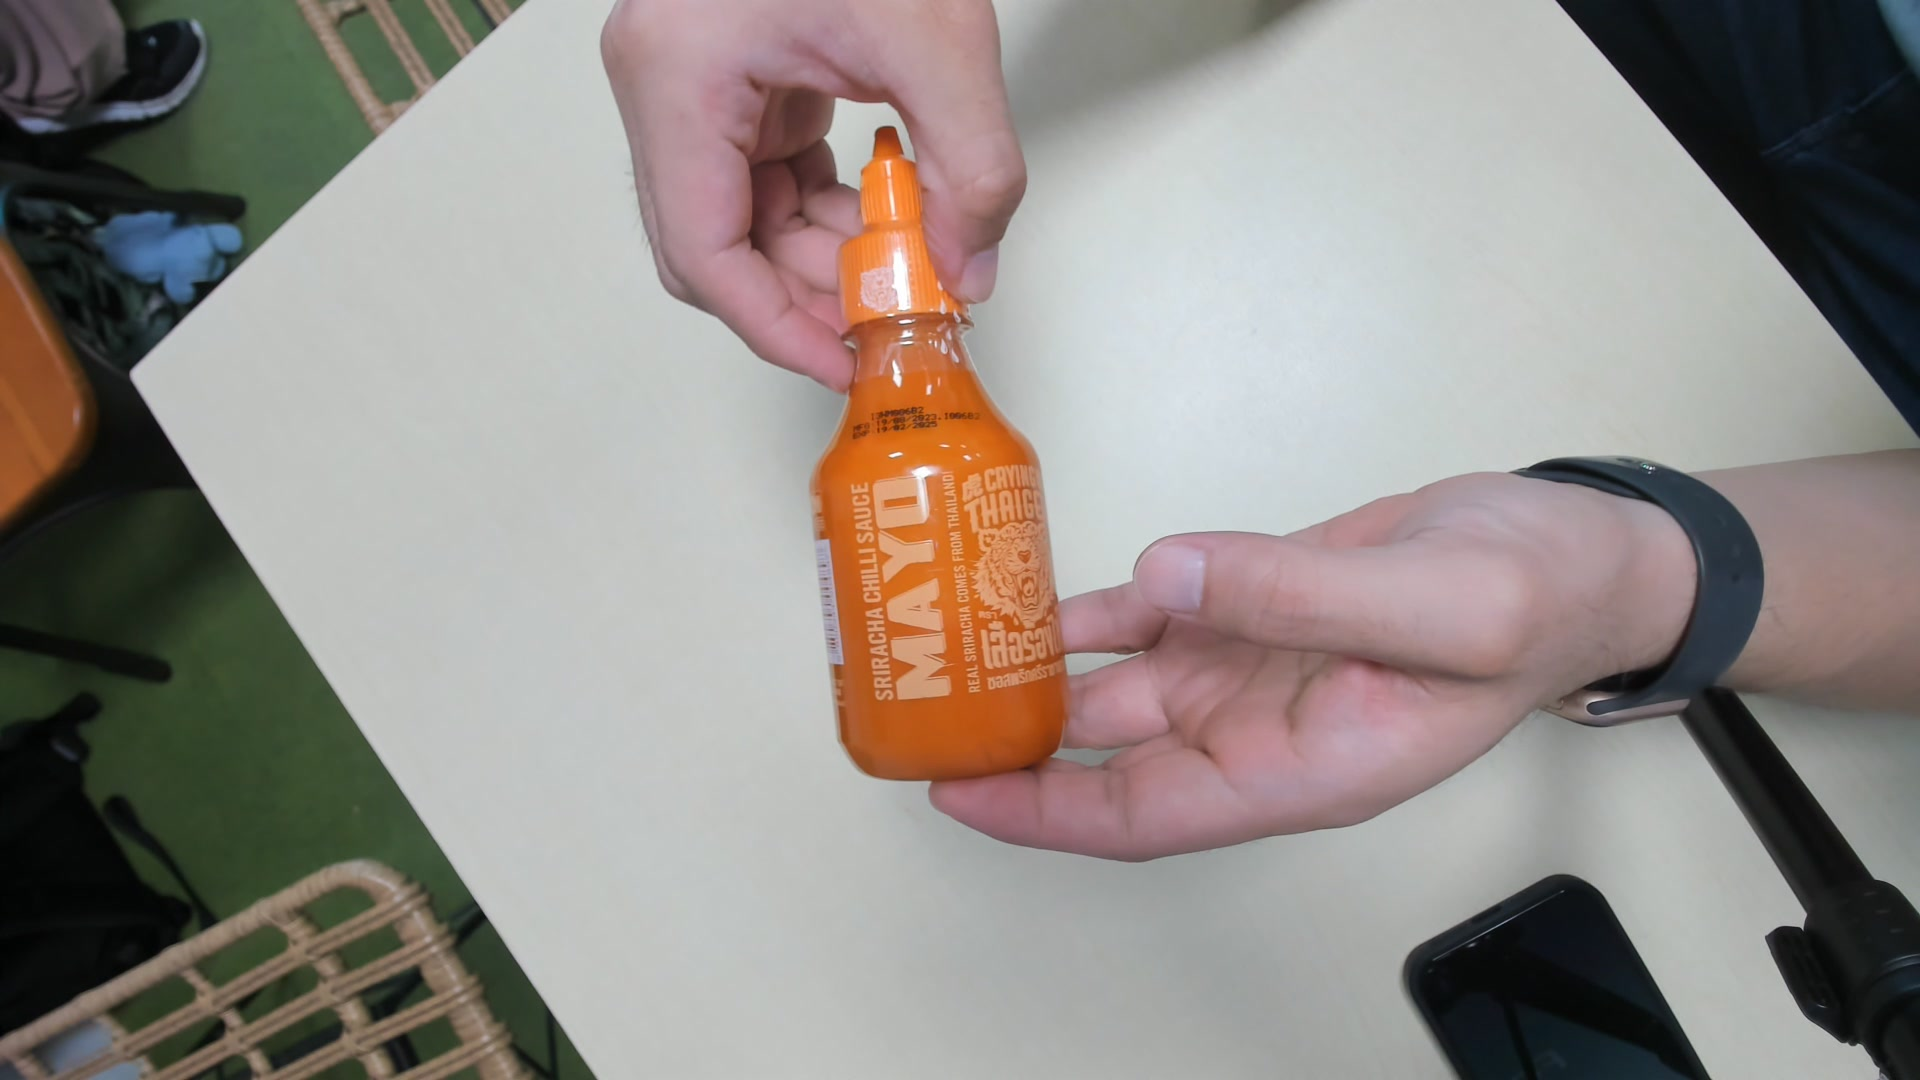OtherSauceDressing_200-299g_NonHalal_NonHealthy: (818, 125, 1073, 775)
